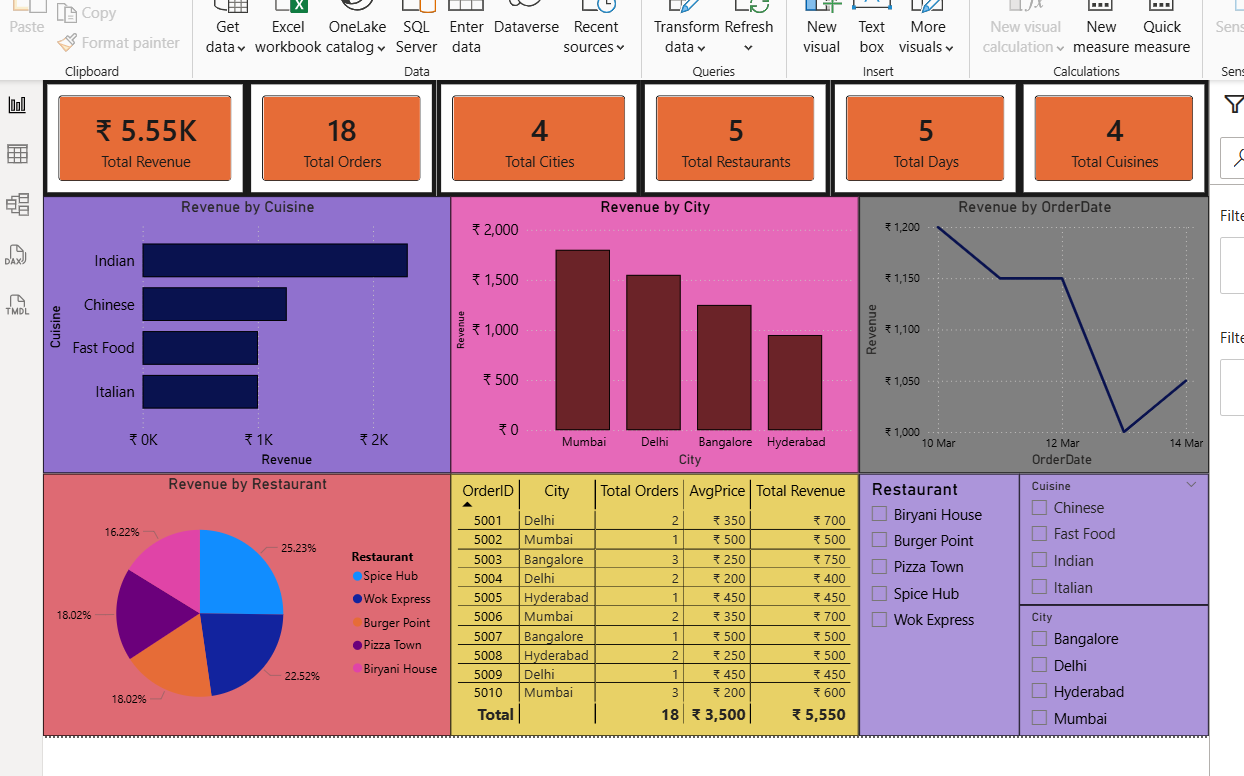

This screenshot's page, from the dashboard's own definition file:
{"tool":"powerbi","page":{"name":"Page 1","canvas":[1280,720],"ordinal":0},"visuals":[{"type":"cardVisual","fields":{"Data":["Sum(Dataset.Revenue)"]},"box":[0,0,224,128],"z":0},{"type":"cardVisual","fields":{"Data":["Sum(Dataset.Orders)"]},"box":[224,0,208,128],"z":1000},{"type":"cardVisual","fields":{"Data":["Count(Dataset.City)"]},"box":[432,0,224,128],"z":2000},{"type":"cardVisual","fields":{"Data":["Count(Dataset.Restaurant)"]},"box":[656,0,208,128],"z":3000},{"type":"cardVisual","fields":{"Data":["Count(Dataset.OrderDate)"]},"box":[864,0,208,128],"z":4000},{"type":"cardVisual","fields":{"Data":["Count(Dataset.Cuisine)"]},"box":[1072,0,208,128],"z":5000},{"type":"barChart","fields":{"Category":["Dataset.Cuisine"],"Y":["Sum(Dataset.Revenue)"]},"box":[0,128,448,304],"z":6000},{"type":"pieChart","fields":{"Category":["Dataset.Restaurant"],"Y":["Sum(Dataset.Revenue)"]},"box":[0,432,448,288],"z":7000},{"type":"lineChart","fields":{"Y":["Sum(Dataset.Revenue)"],"Category":["Dataset.OrderDate"]},"box":[896,128,384,304],"z":8000},{"type":"tableEx","fields":{"Values":["Dataset.OrderID","Dataset.City","Sum(Dataset.Orders)","Sum(Dataset.AvgPrice)","Sum(Dataset.Revenue)"]},"box":[448,432,448,288],"z":9000},{"type":"columnChart","fields":{"Category":["Dataset.City"],"Y":["Sum(Dataset.Revenue)"]},"box":[448,128,448,304],"z":10000},{"type":"slicer","fields":{"Values":["Dataset.City"]},"box":[1072,576,208,144],"z":10001},{"type":"slicer","fields":{"Values":["Dataset.Cuisine"]},"box":[1072,432,208,144],"z":10002},{"type":"slicer","fields":{"Values":["Dataset.Restaurant"]},"box":[896,432,176,288],"z":10003}]}

Visuals, with their boxes in screenshot pixels (x1, y1, x2, y2):
cardVisual - Sum(Dataset.Revenue): <box>26,75,233,193</box>
cardVisual - Sum(Dataset.Orders): <box>233,75,425,193</box>
cardVisual - Count(Dataset.City): <box>425,75,632,193</box>
cardVisual - Count(Dataset.Restaurant): <box>632,75,825,193</box>
cardVisual - Count(Dataset.OrderDate): <box>825,75,1017,193</box>
cardVisual - Count(Dataset.Cuisine): <box>1017,75,1209,193</box>
barChart - Dataset.Cuisine x Sum(Dataset.Revenue): <box>26,193,440,474</box>
pieChart - Dataset.Restaurant x Sum(Dataset.Revenue): <box>26,474,440,740</box>
lineChart - Sum(Dataset.Revenue) x Dataset.OrderDate: <box>854,193,1209,474</box>
tableEx - Dataset.OrderID x Dataset.City: <box>440,474,854,740</box>
columnChart - Dataset.City x Sum(Dataset.Revenue): <box>440,193,854,474</box>
slicer - Dataset.City: <box>1017,607,1209,740</box>
slicer - Dataset.Cuisine: <box>1017,474,1209,607</box>
slicer - Dataset.Restaurant: <box>854,474,1017,740</box>
